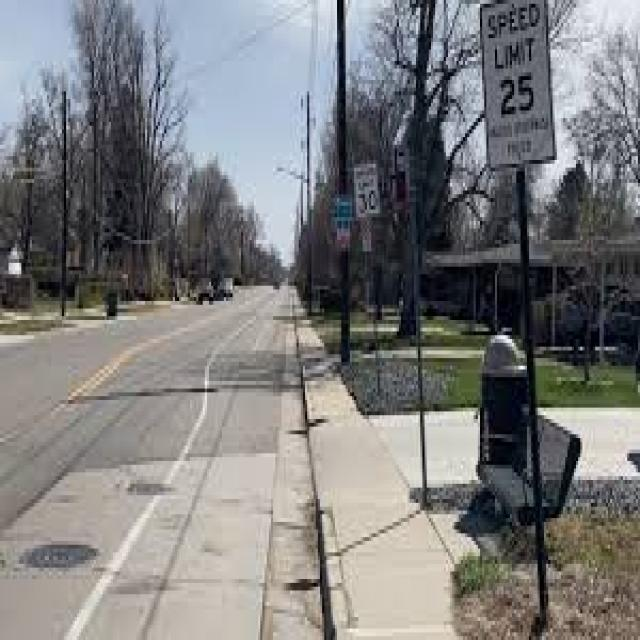speedLimit35: (350, 158, 382, 219)
